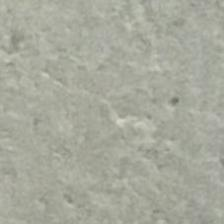Non_Crack: (27, 40, 224, 205)
